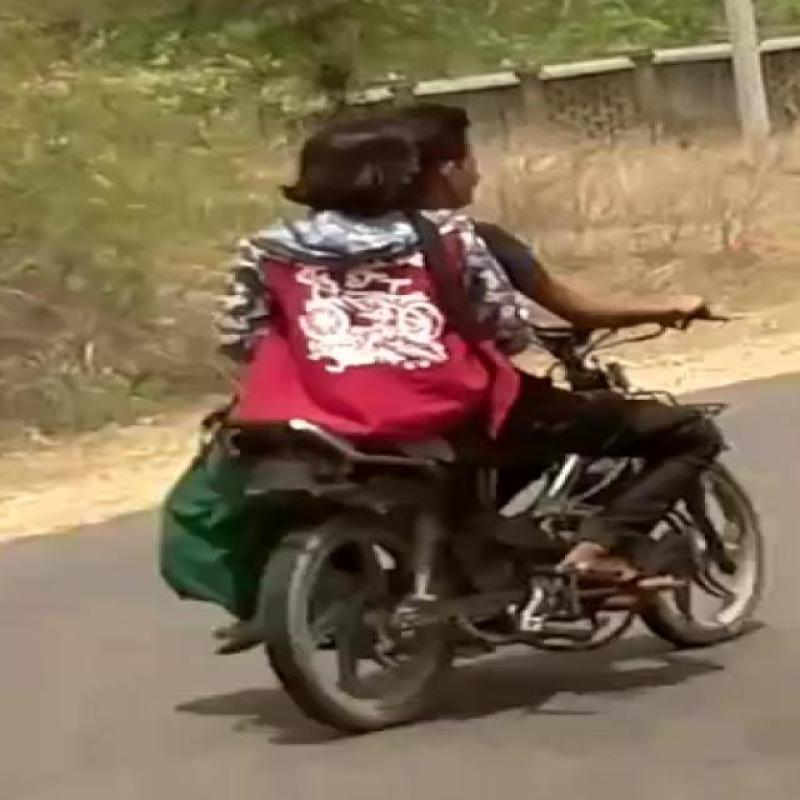nohelmet: (286, 95, 474, 251)
